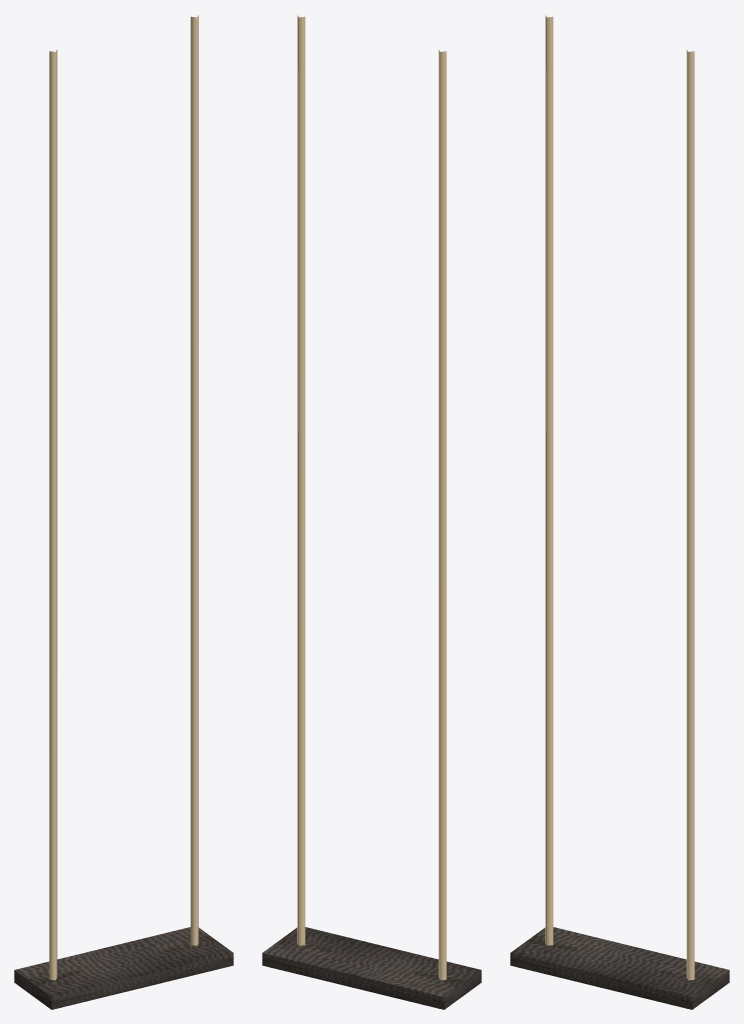
The model's file is swing.glb.
3 views of the same model, side by side, from view 1: azimuth 30°, elevation 25°; view 2: azimuth 150°, elevation 25°; view 3: azimuth 330°, elevation 25° (orthographic).
Visible parts, largest first — view 1: swing; view 2: swing; view 3: swing.
Boxes of the visible parts, box(x1,y1,x2,y2) form: swing: box(14, 15, 233, 1009); swing: box(262, 15, 481, 1009); swing: box(510, 15, 729, 1009).
Bounding box in the file's own units: 0.9 × 4.45 × 0.32.
2 materials, 1 textured.
